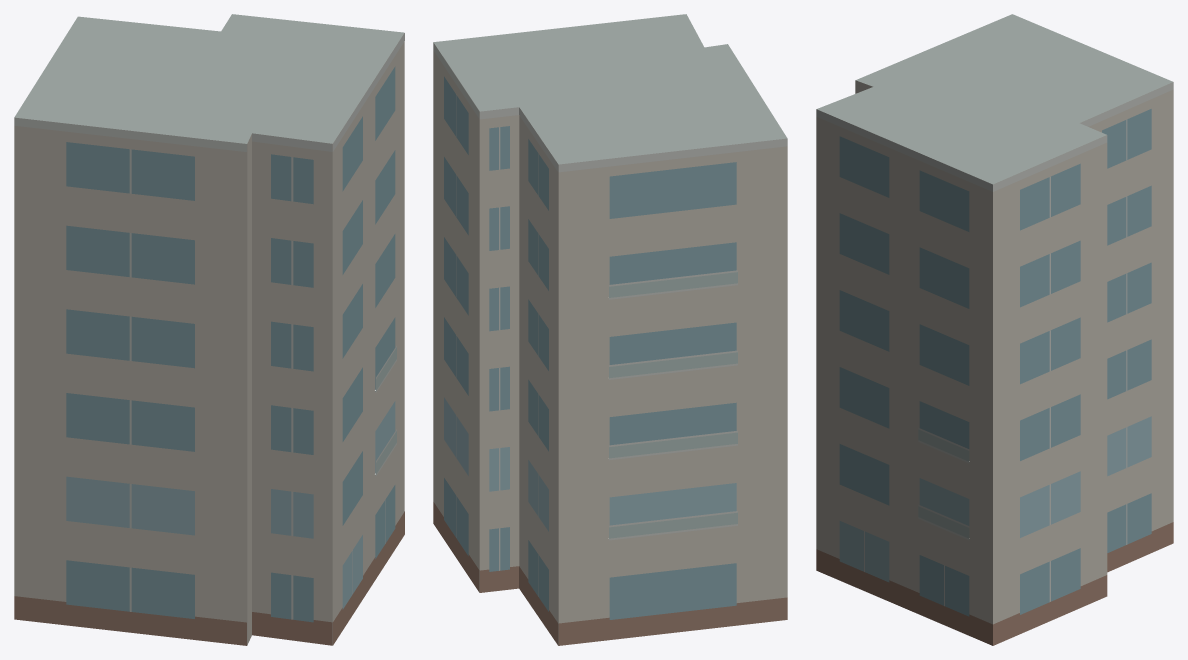
The model's file is survey-upis-32851619.glb.
3 renders of one model, left to right at view 1: azimuth 30°, elevation 25°; view 2: azimuth 150°, elevation 25°; view 3: azimuth 270°, elevation 25°, orthographic. The views are drawn at different scales.
Parts seen in each view (by area): view 1: survey-upis-32851619.tmp; view 2: survey-upis-32851619.tmp; view 3: survey-upis-32851619.tmp.
Part boxes in pixels (x1,y1,x2,y2): survey-upis-32851619.tmp: (14, 14, 404, 645); survey-upis-32851619.tmp: (433, 14, 787, 645); survey-upis-32851619.tmp: (816, 14, 1173, 645).
Bounding box in the file's own units: 11.85 × 14.95 × 10.49.
